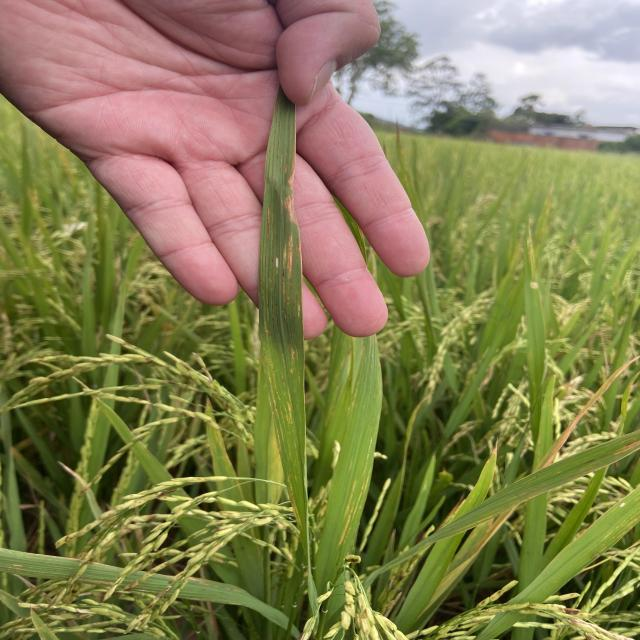Dom soc vi khuan: (287, 235, 293, 272), (282, 245, 286, 297), (266, 204, 270, 238), (261, 251, 264, 296), (274, 255, 279, 275), (275, 304, 279, 326), (290, 345, 295, 360), (287, 297, 289, 305)
